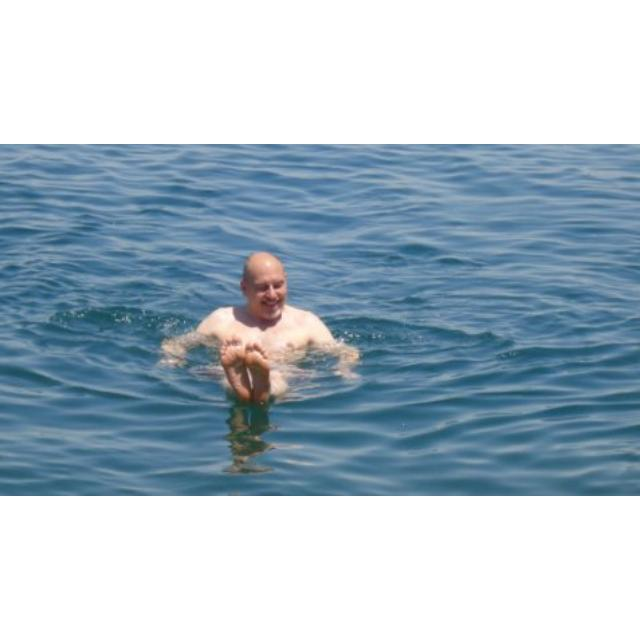human: (155, 250, 361, 404)
